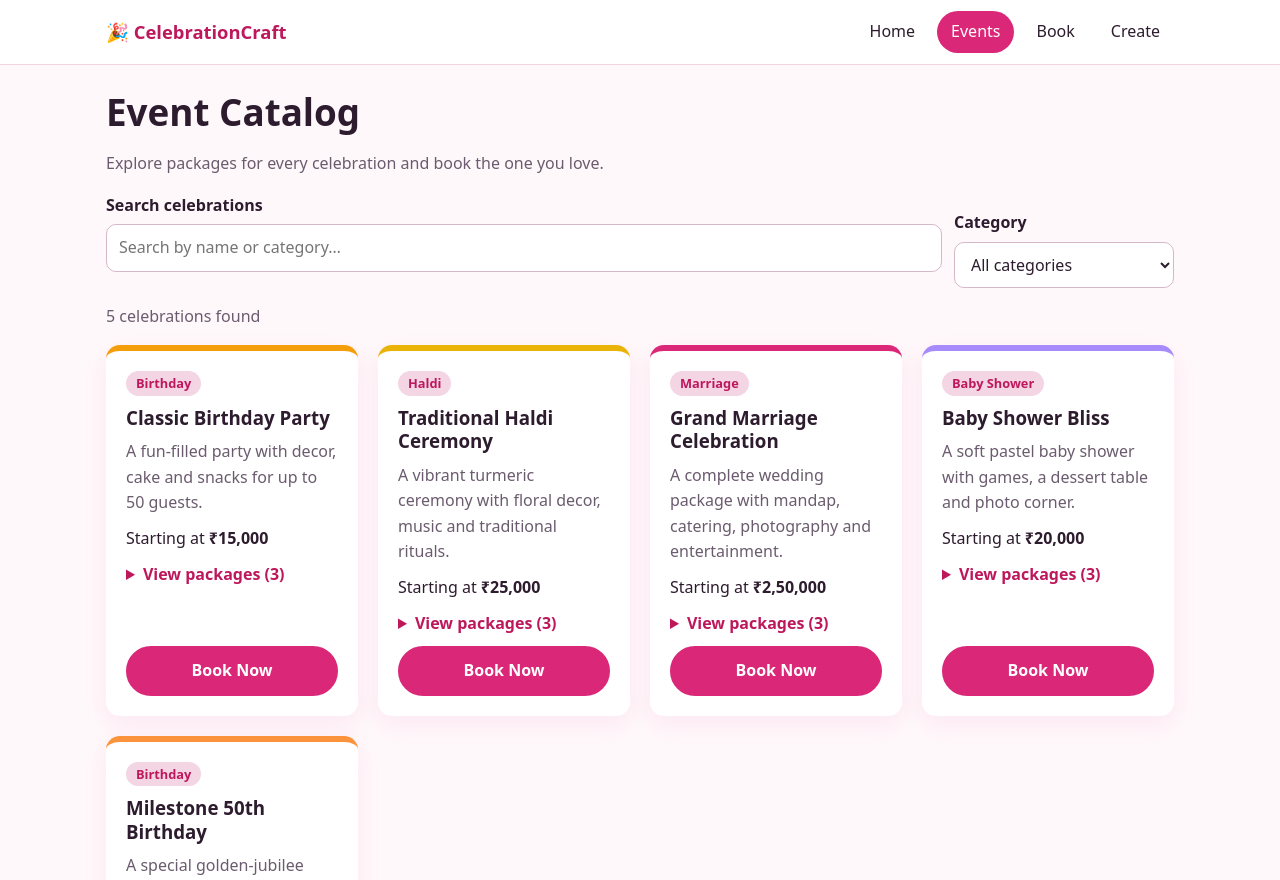
Test case: Navigation › brand logo returns to the home page
This screenshot has width=1280, height=880.
What coordinates should you click on to do the following:
click the link "🎉 CelebrationCraft"
I would click on:
 (196, 32)
Its box is [106,17,286,47].
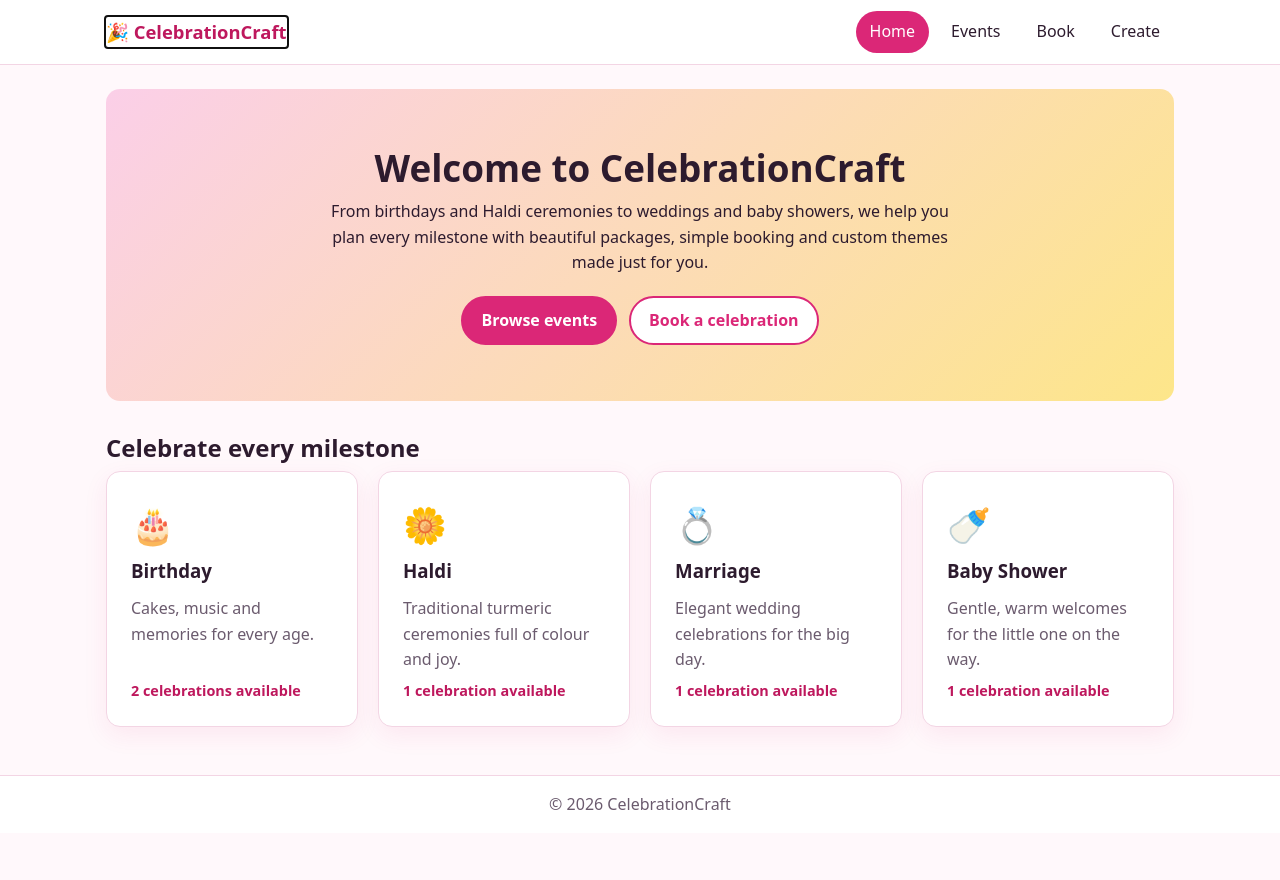
Now the heading "Welcome to CelebrationCraft" is shown, box [374,143,905,193]
